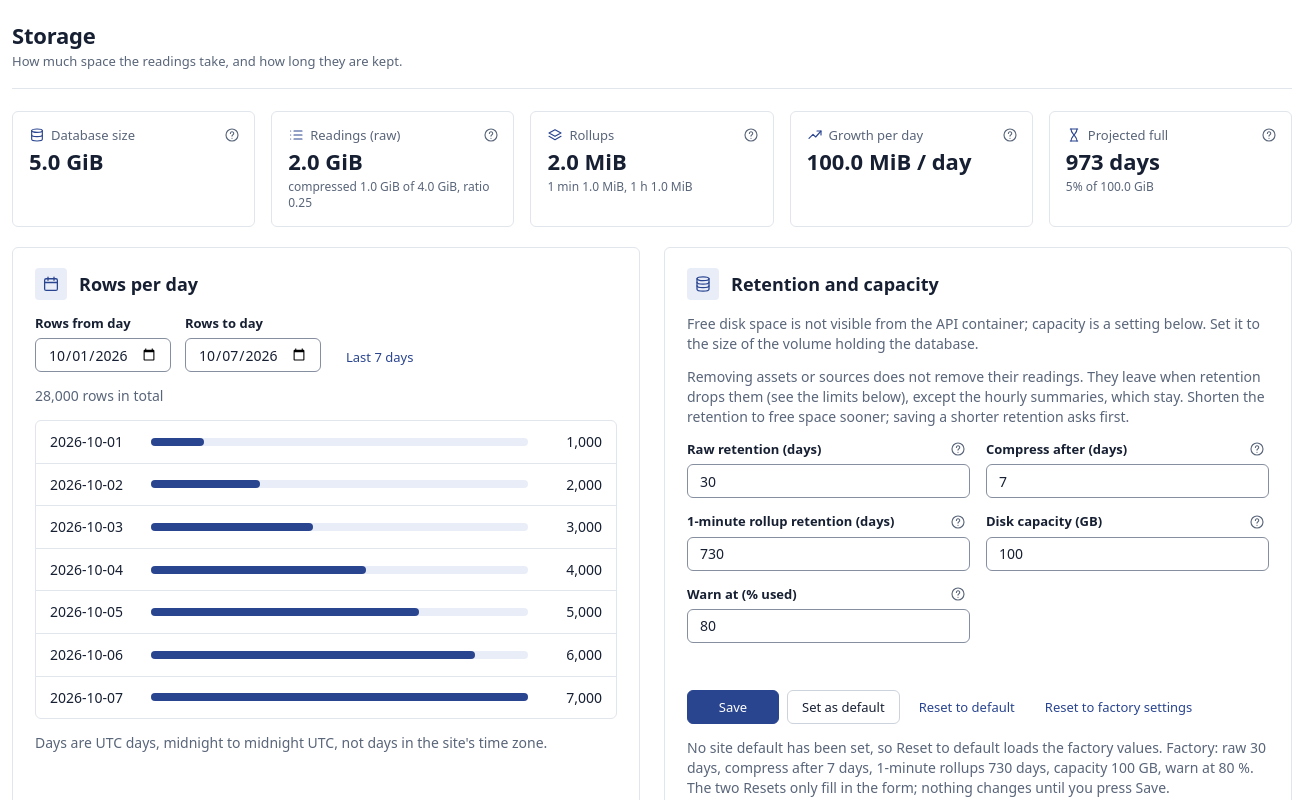
it: StoragePage defaults, resets and the confirmation › Set as default sends the form to the default route, not to the live settings, and says it is not in use yet
The width and height of the screenshot is (1292, 800).
Replace the text in the number field labelled "Raw retention (days)" with "60" at (828, 481), box [687, 464, 970, 498]
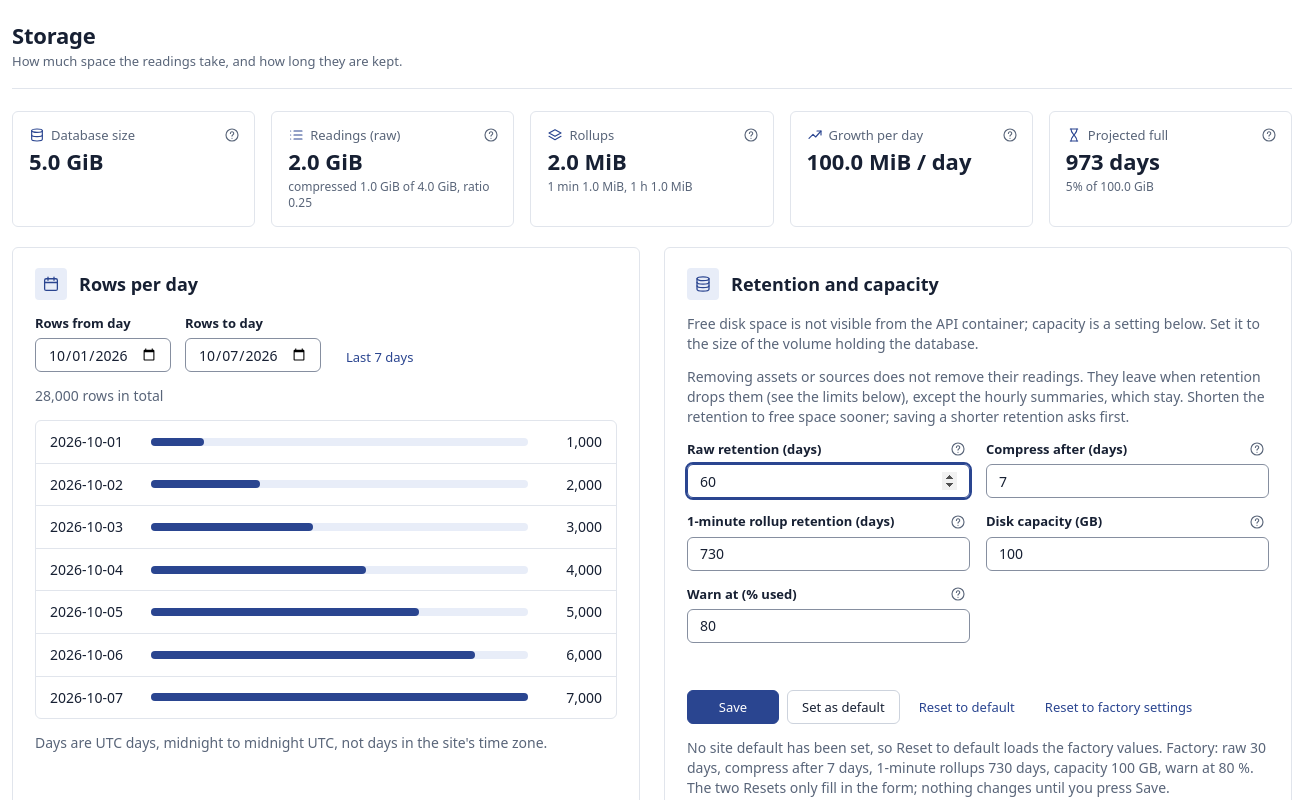
Click the button "Set as default" at (843, 707), box [787, 690, 900, 724]
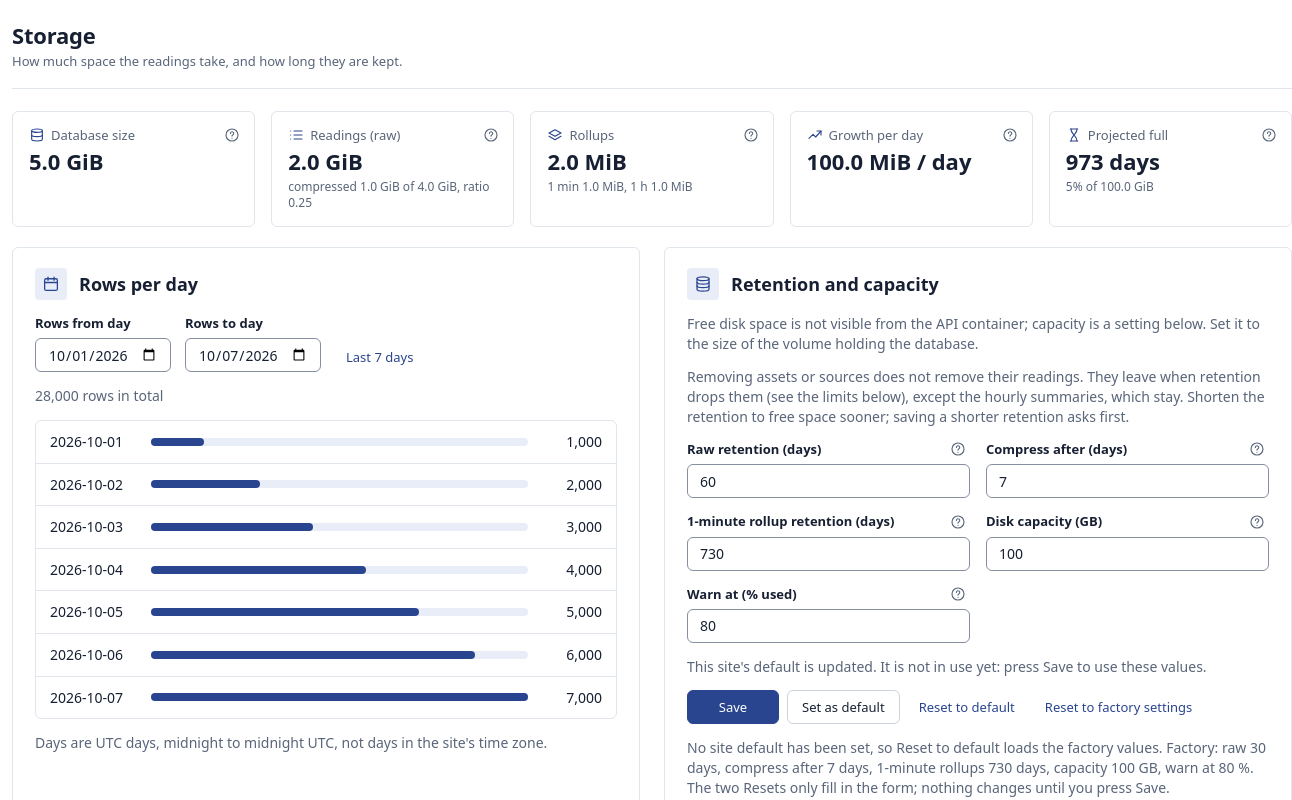
Now the text "This site's default is updated. It is not in use yet: press Save to use these values." is shown, box [687, 657, 1207, 676]
